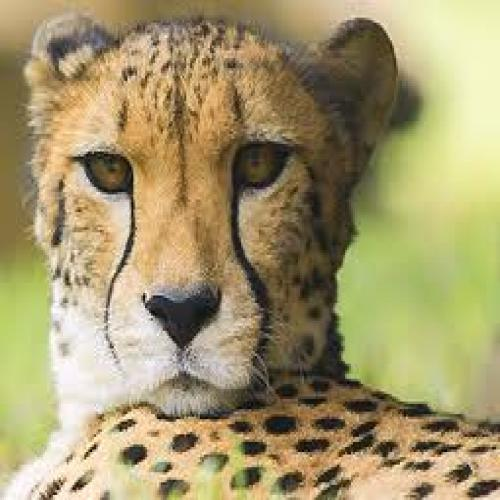cheetah-endangered: (23, 14, 402, 500)
